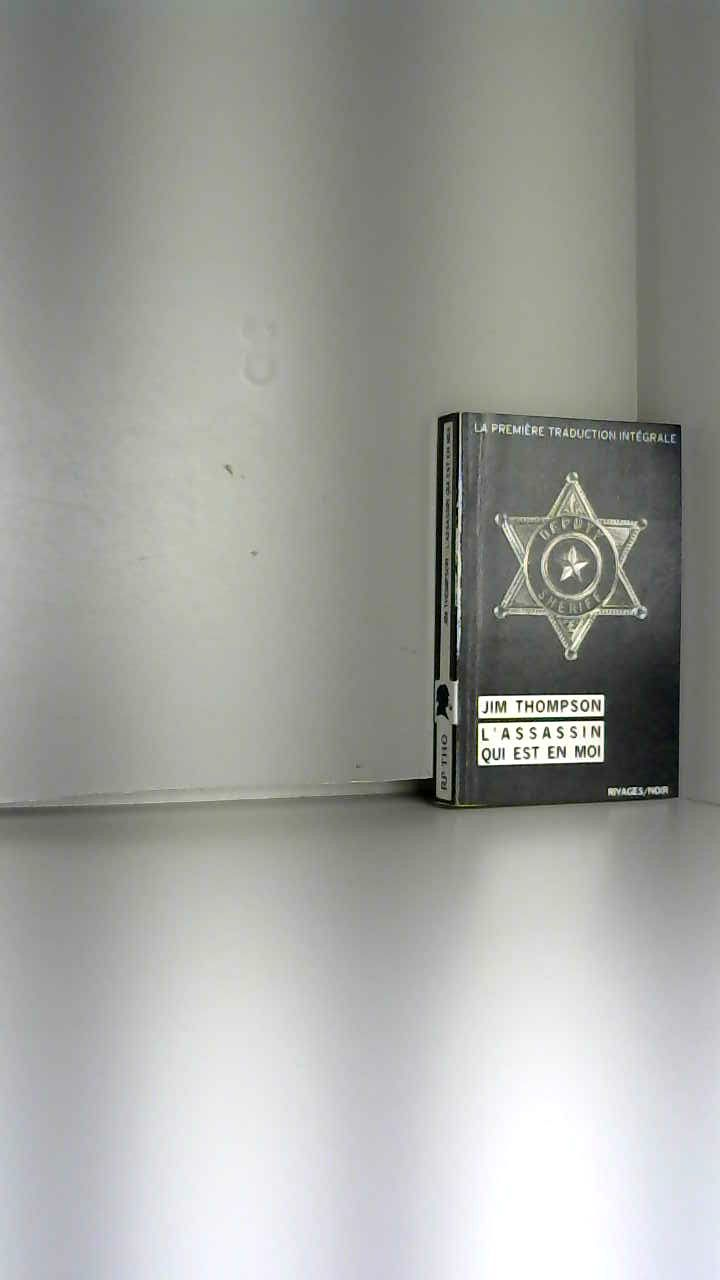book: (410, 380, 720, 827)
